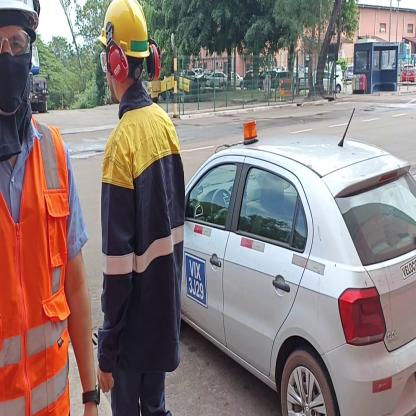Balaclava: (0, 6, 35, 122)
C_eletrica: (99, 100, 182, 378)
Capacete: (102, 0, 154, 56)
colete: (0, 126, 71, 416)
